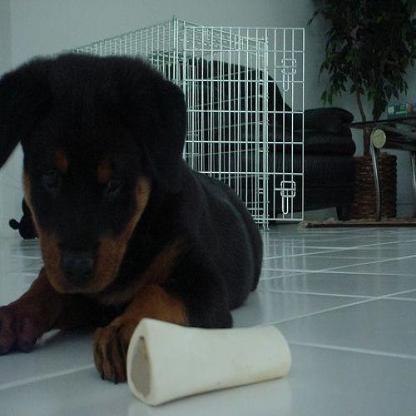Rottweiler: (0, 50, 264, 384)
